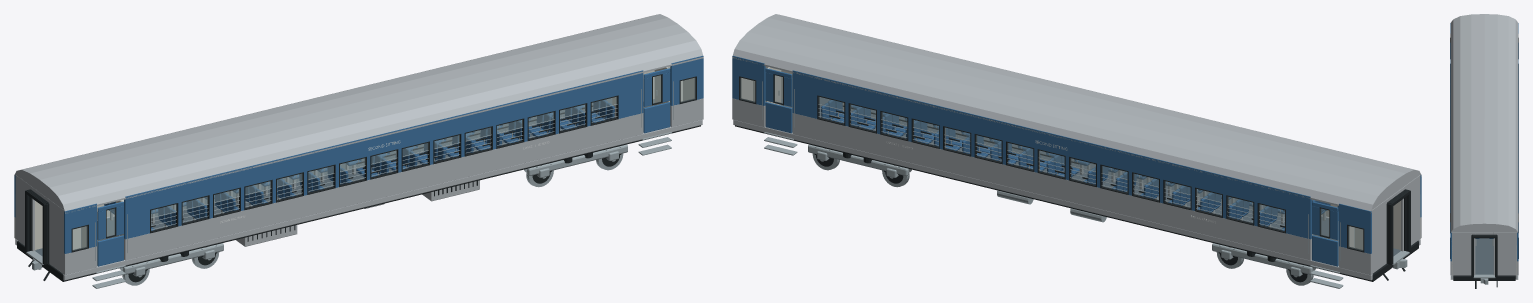
The model's file is LHB_2S.fbx.
The picture shows the model from 3 angles, left to right: view 1: azimuth 30°, elevation 25°; view 2: azimuth 150°, elevation 25°; view 3: azimuth 270°, elevation 25°; orthographic projection. The views are drawn at different scales.
Parts seen in each view (by area): view 1: ROOF_arch, BODYSIDE_sill.001, BODYSIDE_header.001, UNDERFRAME_edge, INTERIOR_floor, UNDERFRAME_main, END_wall, END_wall.001, BOGIE_sideframe_FRONT, BODYSIDE_sill.002, BOGIE_sideframe_REAR, DOOR_lower.001 (+9 smaller); view 2: ROOF_arch, BODYSIDE_sill.004, BODYSIDE_header.004, UNDERFRAME_edge.001, INTERIOR_floor, UNDERFRAME_main, END_wall.001, END_wall, BOGIE_sideframe_FRONT.001, BODYSIDE_sill.005, BOGIE_sideframe_REAR.001, DOOR_lower.003 (+7 smaller); view 3: ROOF_arch, END_wall.002, END_wall.003, INTERIOR_floor, ROOF_endcap.001, UNDERFRAME_main, BODYSIDE_header.001, BODYSIDE_header.004, GANGWAY_bellows.014, GANGWAY_bellows.015, GANGWAY_bridge.001, GANGWAY_top.007.
Part boxes in pixels (box(x1,y1,x2,y2)): ROOF_arch: box(14, 14, 703, 213); BODYSIDE_sill.001: box(124, 113, 643, 260); BODYSIDE_header.001: box(124, 70, 643, 216); UNDERFRAME_edge: box(63, 119, 702, 280); INTERIOR_floor: box(35, 98, 654, 265); UNDERFRAME_main: box(17, 125, 700, 281); END_wall: box(46, 198, 63, 273); END_wall.001: box(15, 175, 34, 251); BOGIE_sideframe_FRONT: box(527, 144, 627, 175); BODYSIDE_sill.002: box(670, 98, 703, 127); BOGIE_sideframe_REAR: box(123, 243, 223, 274); DOOR_lower.001: box(643, 102, 670, 133); ROOF_arch: box(732, 14, 1421, 213); BODYSIDE_sill.004: box(792, 113, 1311, 260); BODYSIDE_header.004: box(792, 70, 1311, 216); UNDERFRAME_edge.001: box(733, 119, 1372, 280); INTERIOR_floor: box(781, 97, 1400, 265); UNDERFRAME_main: box(735, 125, 1418, 281); END_wall.001: box(1372, 198, 1389, 273); END_wall: box(1401, 175, 1420, 251); BOGIE_sideframe_FRONT.001: box(808, 144, 908, 175); BODYSIDE_sill.005: box(732, 98, 765, 127); BOGIE_sideframe_REAR.001: box(1212, 243, 1312, 274); DOOR_lower.003: box(765, 102, 792, 133); ROOF_arch: box(1450, 14, 1518, 233); END_wall.002: box(1452, 232, 1475, 275); END_wall.003: box(1493, 232, 1516, 275); INTERIOR_floor: box(1475, 238, 1493, 274); ROOF_endcap.001: box(1451, 223, 1517, 232); UNDERFRAME_main: box(1453, 275, 1515, 280); BODYSIDE_header.001: box(1450, 43, 1450, 212); BODYSIDE_header.004: box(1518, 43, 1518, 212); GANGWAY_bellows.014: box(1471, 236, 1473, 276); GANGWAY_bellows.015: box(1495, 236, 1497, 276); GANGWAY_bridge.001: box(1473, 274, 1495, 278); GANGWAY_top.007: box(1472, 236, 1496, 238).
Bounding box in the file's own units: 326 × 2416 × 406.
